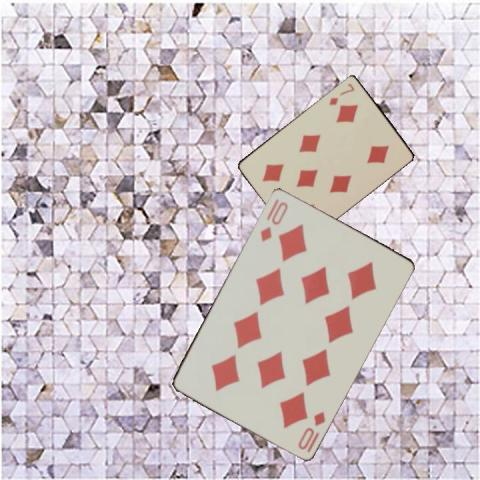10d: (257, 195, 289, 243), (294, 408, 326, 451)
7d: (326, 80, 356, 107)
